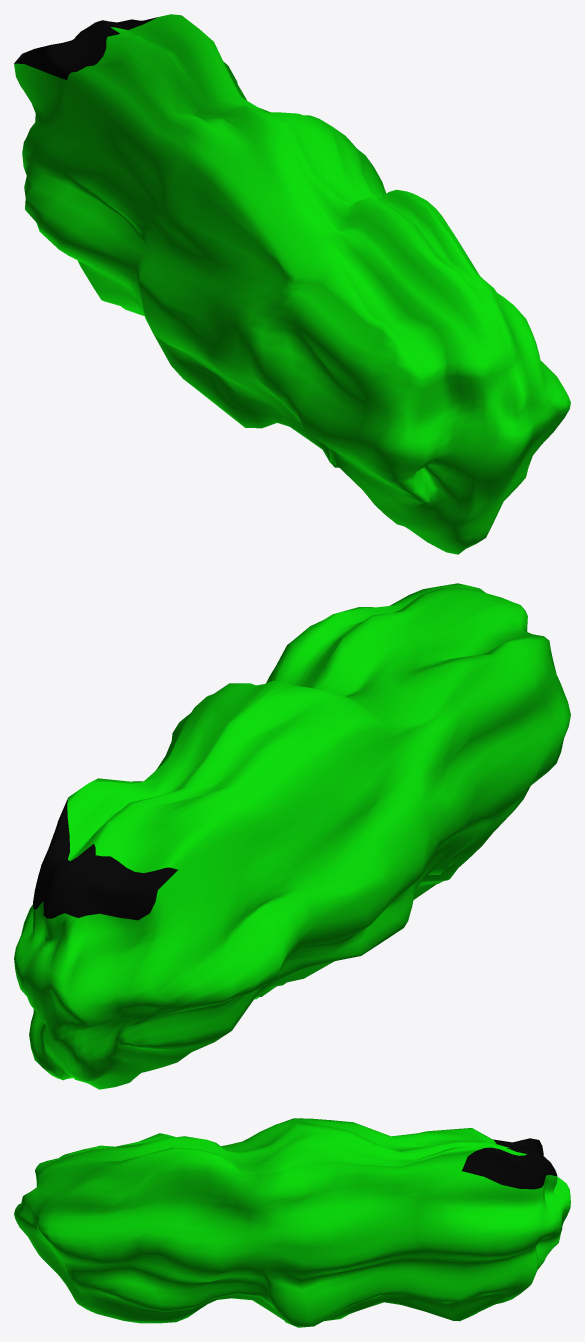
Rendered from Hair2022Final.fbx.
3 views of the same model, one above another, from view 1: azimuth 30°, elevation 25°; view 2: azimuth 150°, elevation 25°; view 3: azimuth 270°, elevation 25° (orthographic). The views are drawn at different scales.
Parts seen in each view (by area): view 1: CloudHair; view 2: CloudHair; view 3: CloudHair.
Part boxes in pixels (bbox=[...]): CloudHair: bbox=[14, 14, 570, 554]; CloudHair: bbox=[14, 583, 570, 1089]; CloudHair: bbox=[14, 1118, 570, 1327].
Size of the model in its own units: 37.53 by 47.86 by 126.
